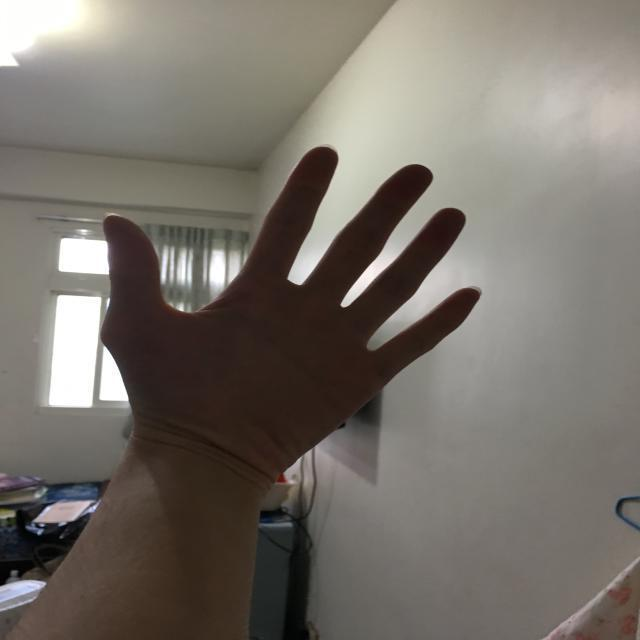hand: (88, 135, 496, 512)
